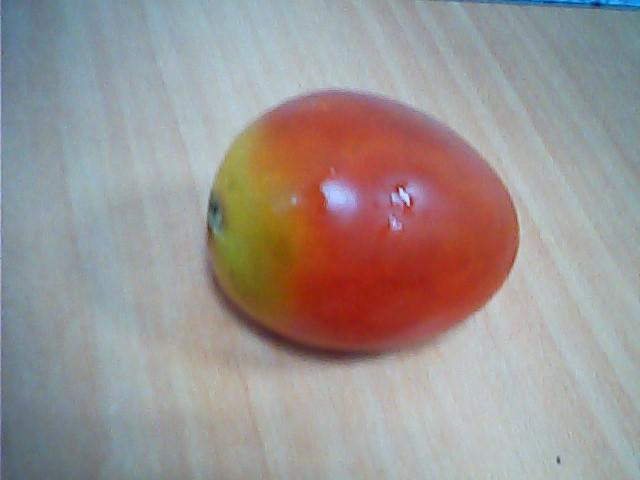verde: (201, 84, 520, 358)
